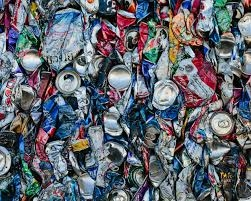metal: (145, 74, 182, 113), (103, 60, 135, 94), (53, 65, 88, 95), (205, 108, 238, 137)
